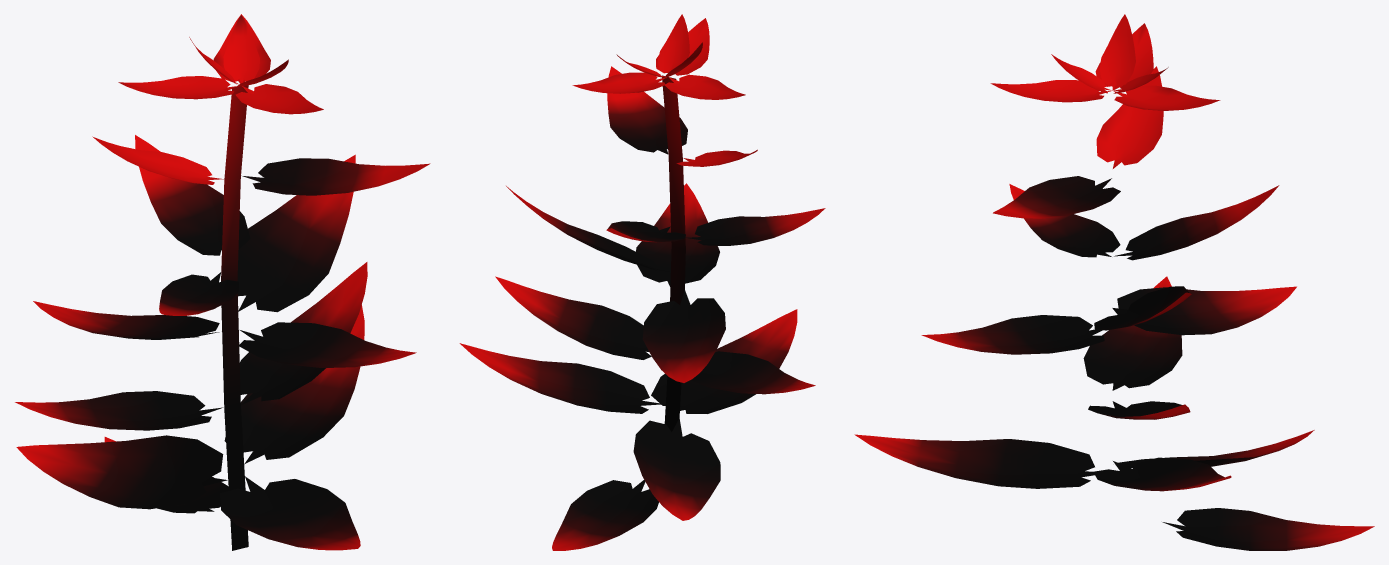
The model's file is SM_Nettle_01_LOD0.fbx.
3 renders of one model, left to right at view 1: azimuth 30°, elevation 25°; view 2: azimuth 150°, elevation 25°; view 3: azimuth 270°, elevation 25°, orthographic. The views are drawn at different scales.
Parts seen in each view (by area): view 1: SM_Nettle_01_LOD0; view 2: SM_Nettle_01_LOD0; view 3: SM_Nettle_01_LOD0.
Part boxes in pixels (x1,y1,x2,y2): SM_Nettle_01_LOD0: [15, 14, 430, 550]; SM_Nettle_01_LOD0: [459, 14, 825, 550]; SM_Nettle_01_LOD0: [854, 14, 1374, 550].
Bounding box in the file's own units: 108 × 131 × 141.
